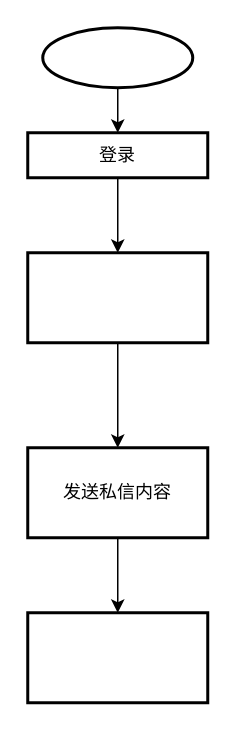
Some shapes in this 234 by 729 pixel diagram are drawn without their labels. The shapes that lost their labels are listed below. From the top down, each one's box as (x1, y1, x2, y2) in pixels, then its label:
(40, 26, 194, 88): 开始
(26, 250, 208, 344): 点击私信 打开聊天界面
